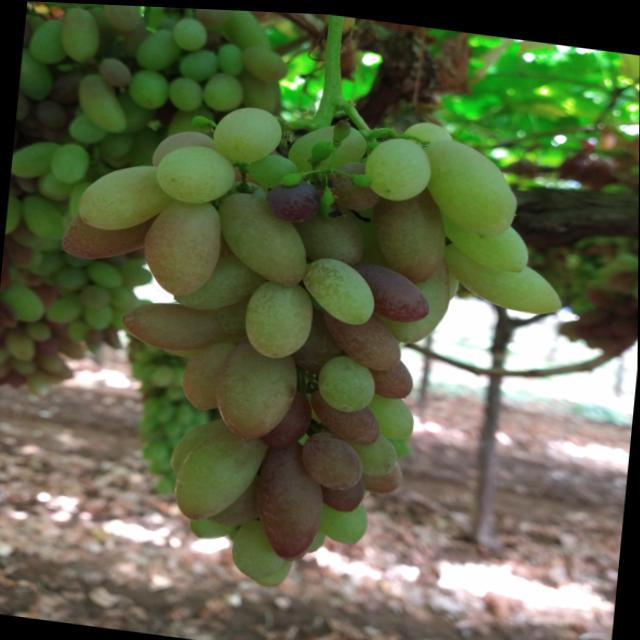grapes: (416, 132, 522, 238), (251, 435, 330, 559), (173, 421, 268, 524), (440, 235, 567, 311), (213, 185, 309, 284), (213, 338, 302, 444), (140, 194, 222, 299), (76, 155, 175, 237), (365, 187, 450, 282), (286, 179, 375, 266), (376, 247, 453, 344), (430, 198, 532, 270), (119, 295, 228, 356), (60, 198, 156, 267), (241, 274, 316, 360), (172, 243, 263, 313), (317, 303, 405, 368), (299, 252, 379, 323), (153, 140, 237, 206), (211, 98, 286, 169), (354, 259, 435, 322), (287, 115, 369, 177), (363, 130, 433, 201), (178, 332, 235, 412), (310, 386, 384, 444), (299, 428, 367, 489), (317, 348, 380, 412), (169, 411, 230, 477), (231, 514, 288, 581), (76, 72, 131, 134), (265, 386, 315, 452), (326, 154, 382, 210), (153, 125, 215, 173), (261, 173, 318, 224), (217, 8, 274, 57), (366, 388, 417, 439), (319, 493, 371, 543), (348, 427, 401, 476), (366, 352, 417, 398), (59, 5, 100, 62), (211, 478, 258, 525), (135, 26, 182, 73), (10, 136, 58, 182), (18, 48, 57, 103), (320, 471, 366, 512), (30, 16, 67, 65), (203, 70, 245, 112), (50, 140, 89, 185), (401, 116, 454, 149), (242, 42, 287, 80), (190, 507, 240, 541), (361, 454, 405, 492), (2, 283, 44, 322), (178, 45, 220, 83), (254, 549, 292, 587), (131, 69, 167, 108), (167, 75, 205, 110), (172, 15, 206, 51), (98, 56, 132, 89), (0, 329, 36, 360), (102, 4, 142, 29), (5, 194, 26, 238), (217, 41, 245, 73), (83, 302, 112, 331), (194, 7, 229, 27), (232, 8, 264, 15)
